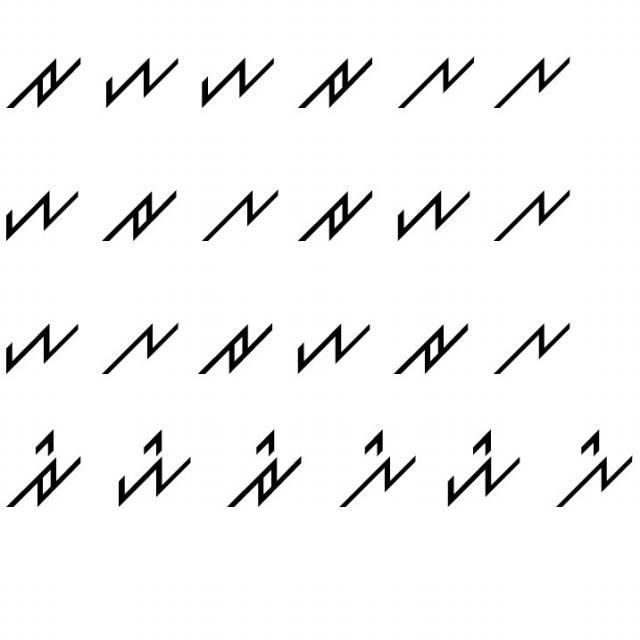la: (488, 178, 578, 249), (393, 42, 478, 117), (94, 310, 183, 381), (197, 181, 281, 252), (493, 47, 574, 120), (489, 318, 572, 384)
li: (550, 419, 637, 514), (333, 421, 423, 511)
ra: (386, 310, 471, 391), (8, 39, 88, 120), (299, 178, 381, 250), (288, 54, 375, 120), (193, 310, 275, 378), (101, 183, 180, 251)
ri: (219, 425, 308, 515), (3, 426, 88, 513)
ya: (99, 40, 181, 112), (188, 45, 280, 109), (2, 305, 83, 376), (288, 315, 373, 381), (392, 188, 475, 255), (2, 177, 84, 242)
yi: (112, 425, 193, 516), (443, 421, 522, 508)
